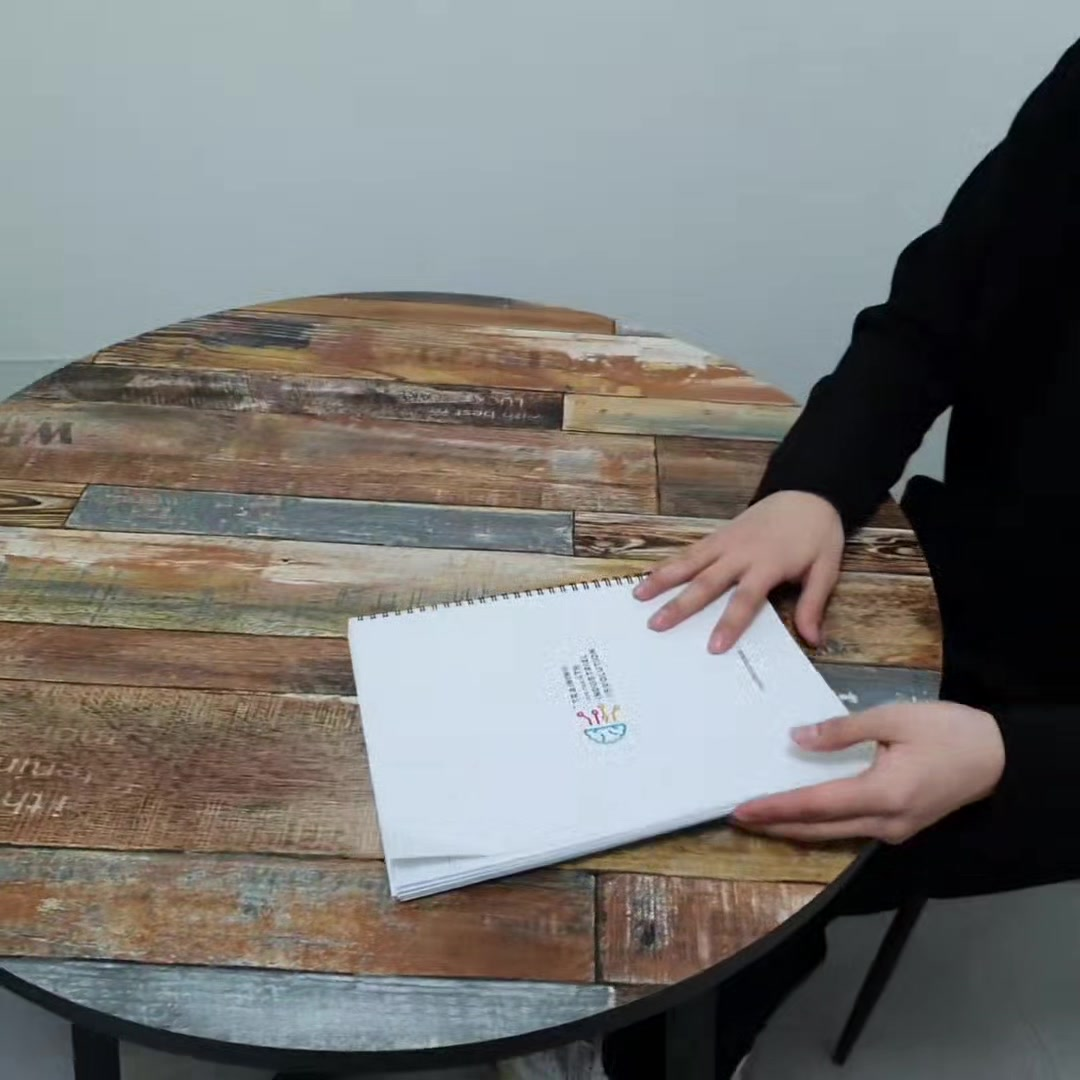book: (337, 537, 889, 900)
